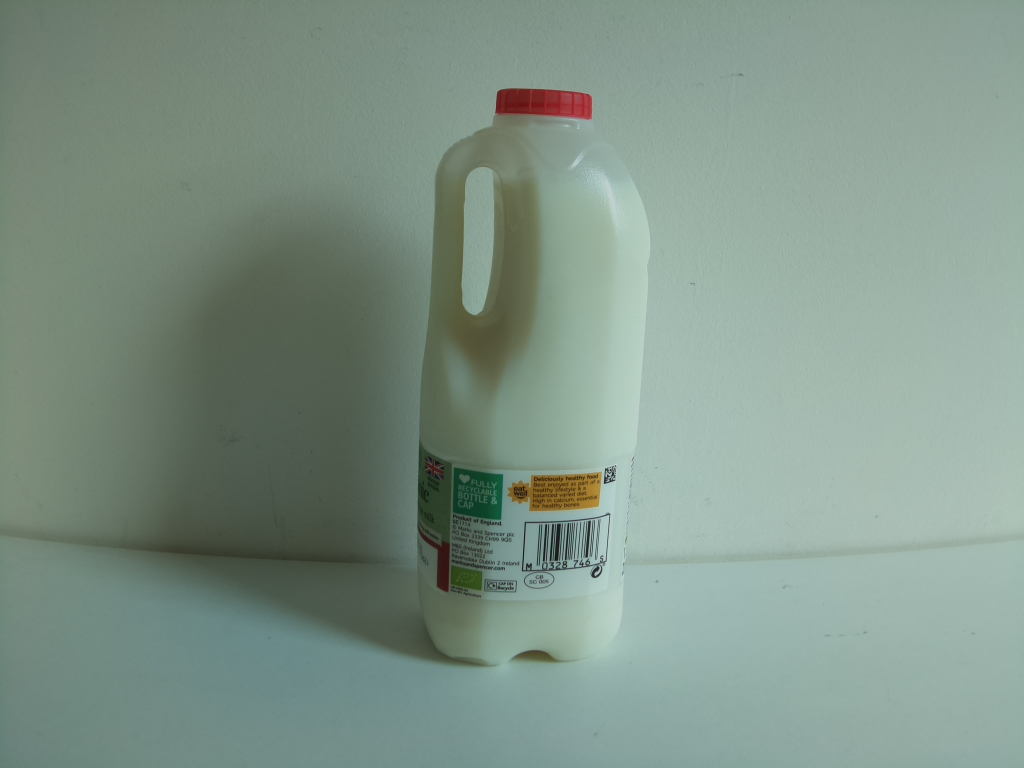milk: (415, 82, 654, 673)
